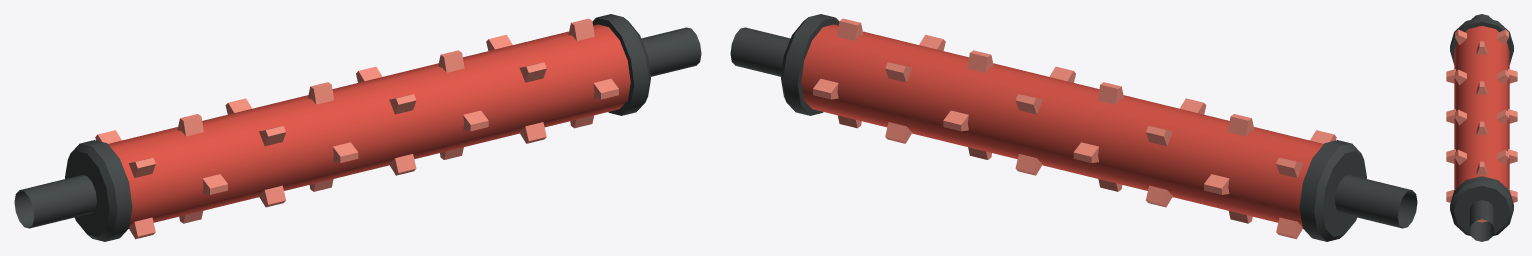
The model's file is SM_Roller.fbx.
3 views of the same model, side by side, from view 1: azimuth 30°, elevation 25°; view 2: azimuth 150°, elevation 25°; view 3: azimuth 270°, elevation 25° (orthographic). The views are drawn at different scales.
Visible parts, largest first — view 1: Roller; view 2: Roller; view 3: Roller.
Boxes of the visible parts, x1,y1,x2,y2 form: Roller: (14,14,701,241); Roller: (730,14,1417,241); Roller: (1446,14,1517,241).
Size of the model in its own units: 304 by 44.76 by 44.76.
